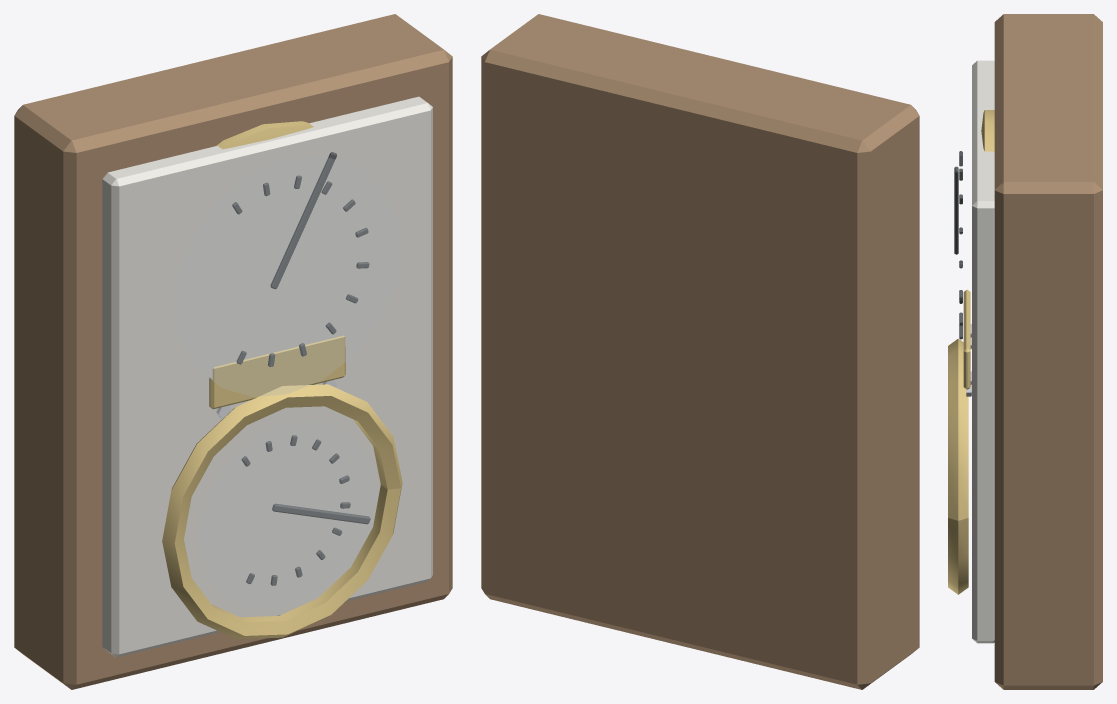
Rendered from submarine-interior-and-control-room-chronometer-and-ba-7bffbdcd__36487.glb.
3 renders of one model, left to right at view 1: azimuth 30°, elevation 25°; view 2: azimuth 150°, elevation 25°; view 3: azimuth 270°, elevation 25°, orthographic. The views are drawn at different scales.
Visible parts, largest first — view 1: chronometer-and-barograph-board; view 2: chronometer-and-barograph-board; view 3: chronometer-and-barograph-board.
Boxes of the visible parts, x1,y1,x2,y2 form: chronometer-and-barograph-board: (14,14,452,689); chronometer-and-barograph-board: (481,14,919,689); chronometer-and-barograph-board: (948,14,1102,689).
Size of the model in its own units: 0.46 by 0.62 by 0.1714.
